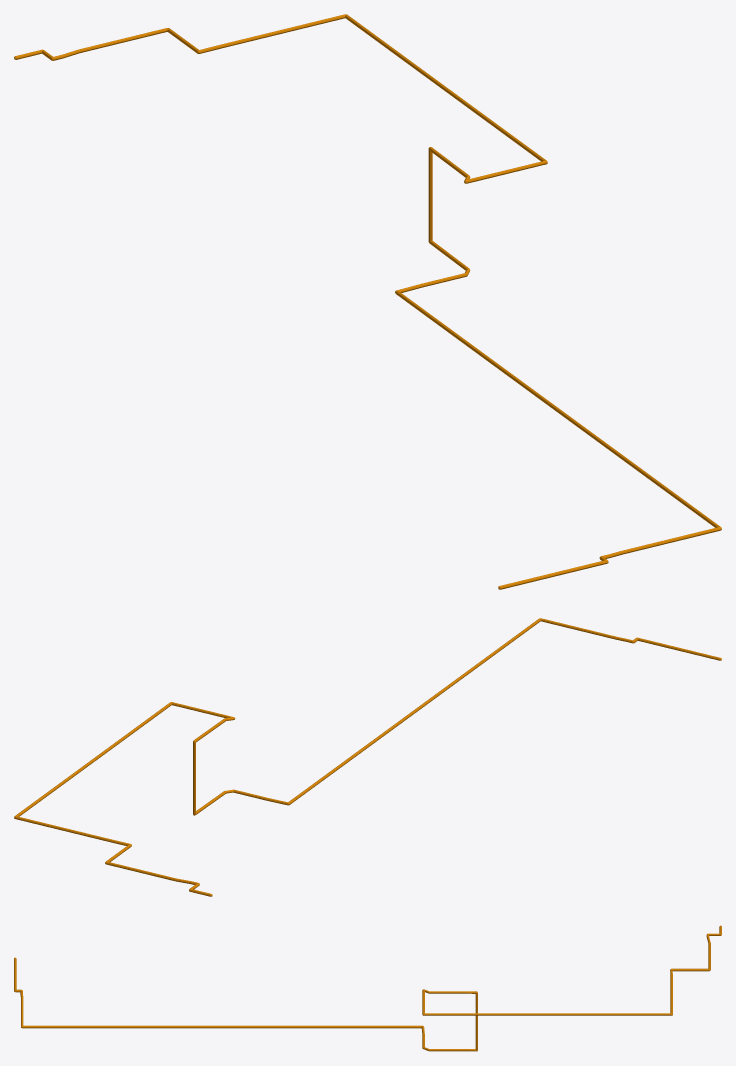
3 views of the same model, one above another, from view 1: azimuth 30°, elevation 25°; view 2: azimuth 150°, elevation 25°; view 3: azimuth 270°, elevation 25° (orthographic). The views are drawn at different scales.
Bounding box in the file's own units: 2131 × 520 × 5566.
